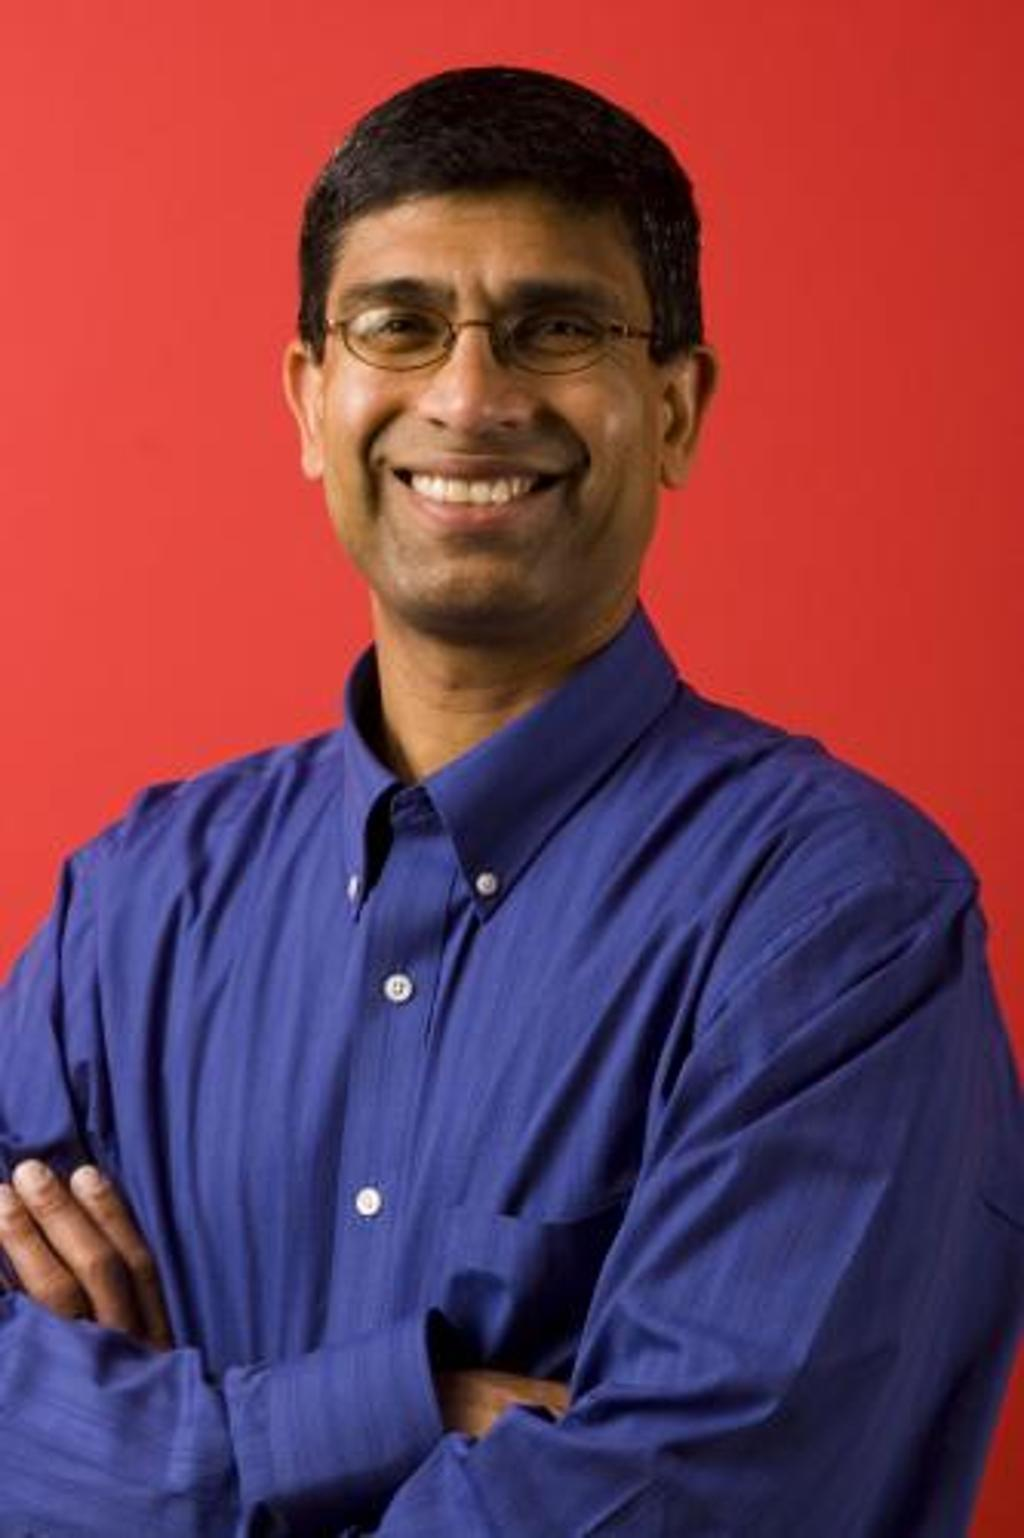face: (327, 207, 645, 630)
